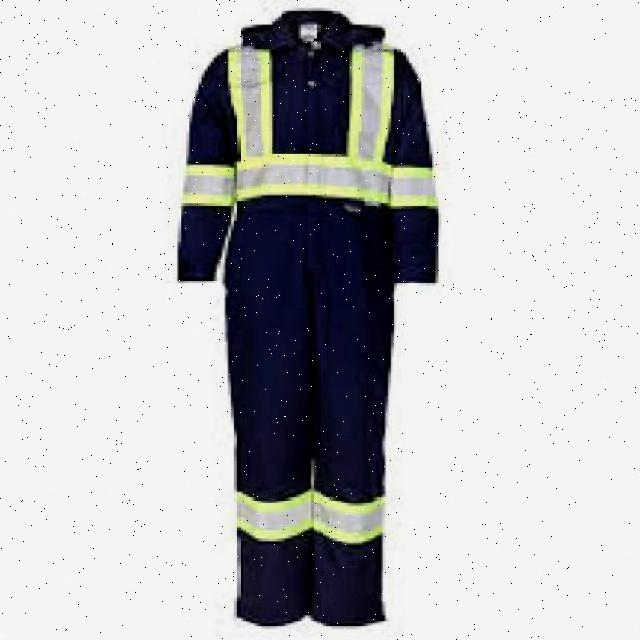Mask: (179, 18, 438, 592)
